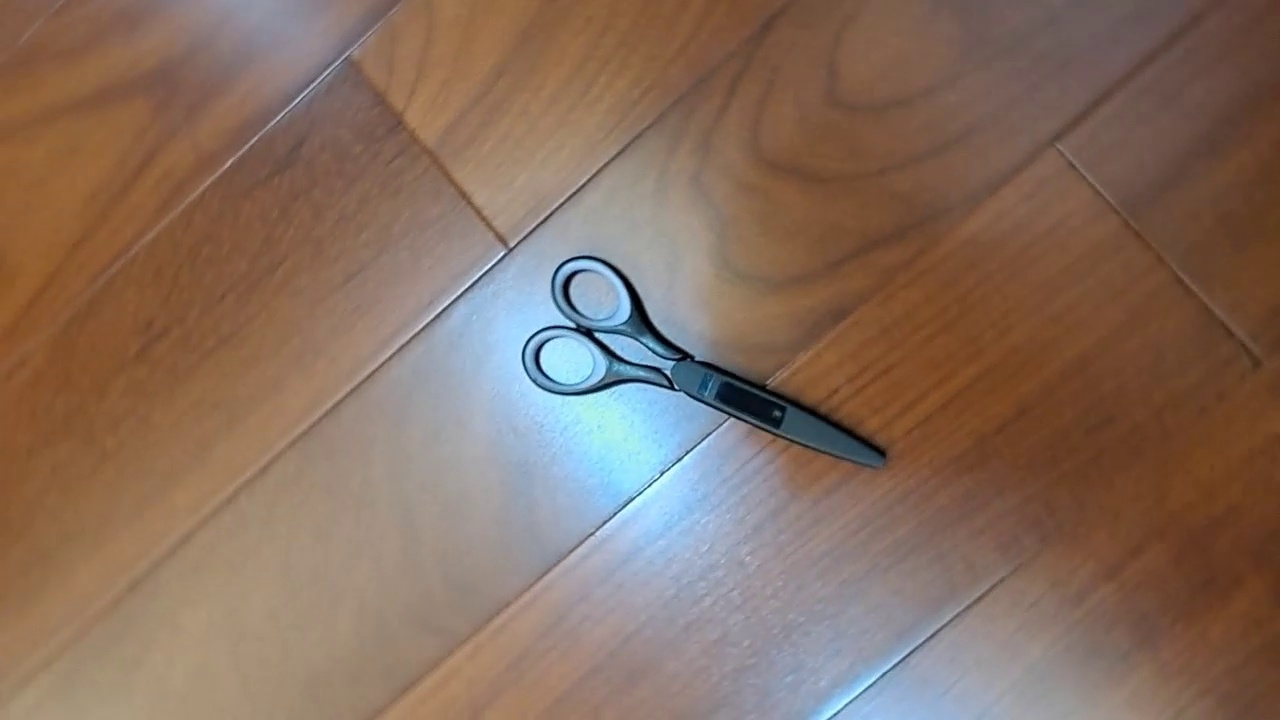scissors: (519, 253, 888, 471)
